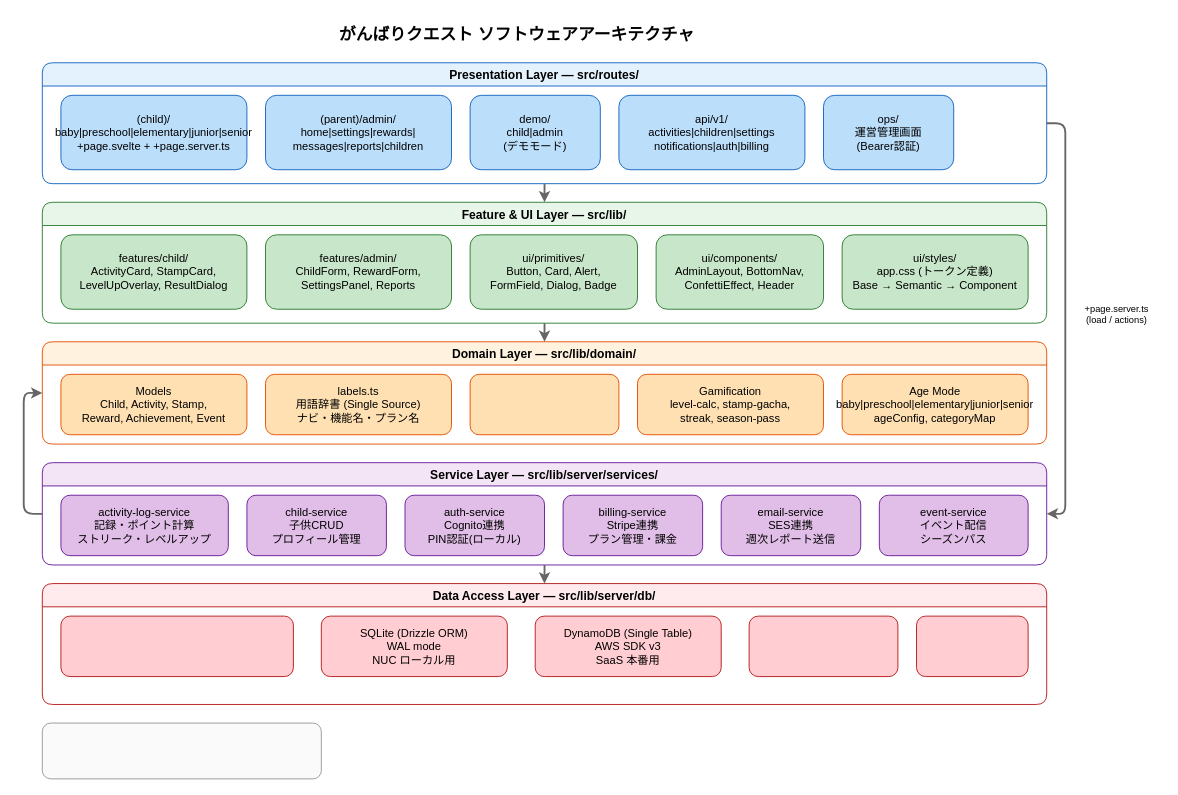
This 1178x795 diagram has some shape labels left out. The shapes that lost their labels are listed below. From the top down, each one's centre as x and y in pixels, then its label:
the point at 544,404: Validation Zod スキーマ 入力バリデーション
the point at 176,646: Facade (factory.ts) 環境に応じて SQLite/DynamoDB 切替 Repository パターン
the point at 823,646: schema.ts (Drizzle) テーブル定義 型自動生成
the point at 972,646: demo-data.ts デモモード用 インメモリデータ
the point at 181,750: 依存方向: 上位層 → 下位層のみ +page.server.ts は Services を直接呼出 コンポーネントからの直接 DB アクセス禁止
